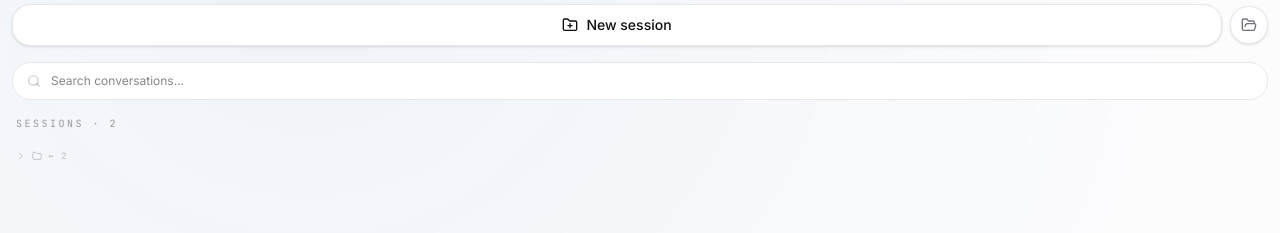
Test: ConversationSearch — deep content search › merges deep-search hits (matching message bodies) into the visible list
The width and height of the screenshot is (1280, 233).
Type "ownership" into the field with placeholder "Search conversations...".
click(652, 81); type("ownership")  # box 51,73 -> 1253,89
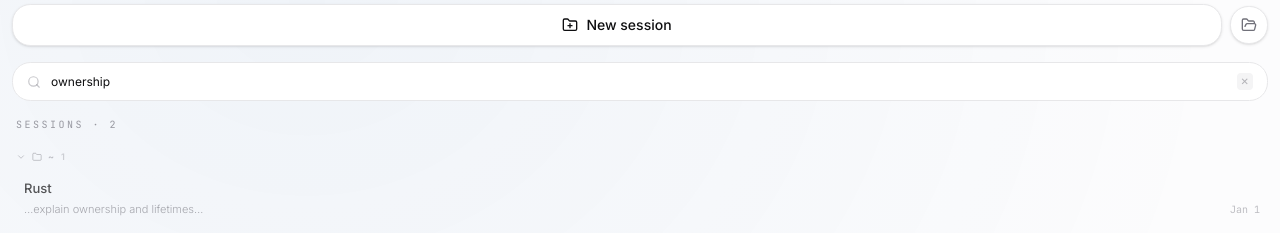
Check: the text "Rust" is shown, box 24,180 -> 52,197
Check: the text "…explain ownership and lifetimes…" is shown, box 24,202 -> 203,216
